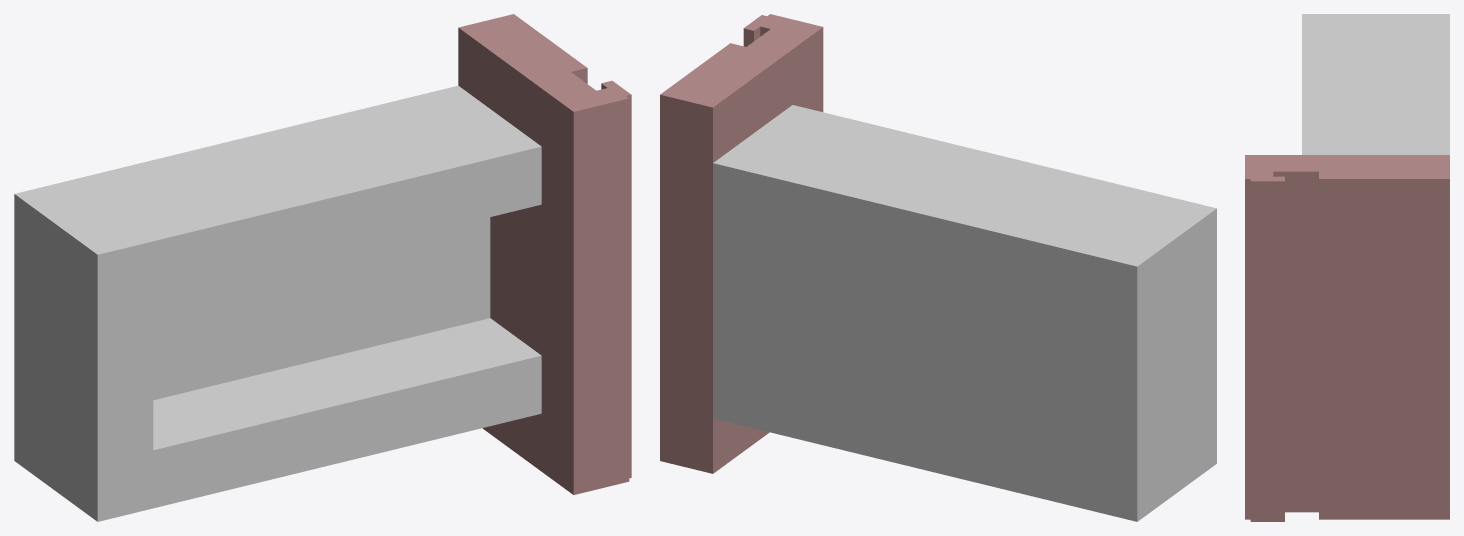
The model's file is ROOM602-FRIDGE-BODYSET3_link_mesh.dae.
3 renders of one model, left to right at view 1: azimuth 30°, elevation 25°; view 2: azimuth 150°, elevation 25°; view 3: azimuth 270°, elevation 25°, orthographic. The views are drawn at different scales.
Parts seen in each view (by area): view 1: ROOM602-FRIDGE-BODYSET3_link (×2); view 2: ROOM602-FRIDGE-BODYSET3_link (×2); view 3: ROOM602-FRIDGE-BODYSET3_link (×2).
Part boxes in pixels (box(x1,y1,x2,y2)): ROOM602-FRIDGE-BODYSET3_link (×2): box(14, 14, 631, 521); ROOM602-FRIDGE-BODYSET3_link (×2): box(660, 14, 1216, 521); ROOM602-FRIDGE-BODYSET3_link (×2): box(1245, 14, 1449, 521).
Size of the model in its own units: 0.455 by 0.33 by 0.18.
